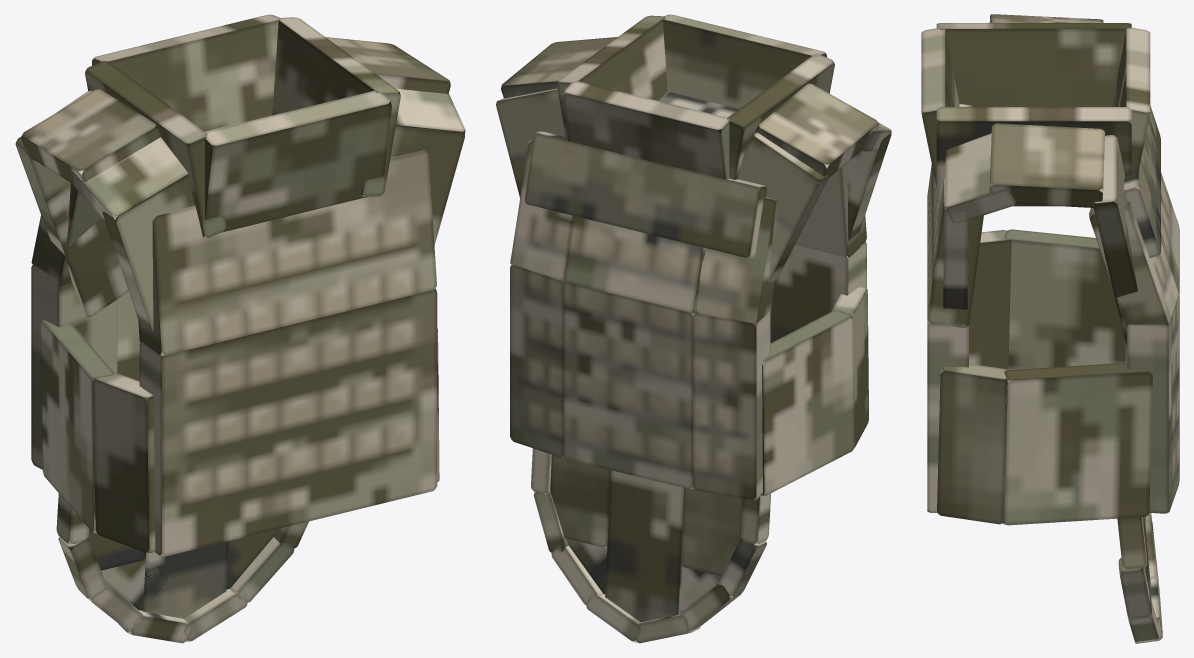
File: ukrainian_basic.obj
3 renders of one model, left to right at view 1: azimuth 30°, elevation 25°; view 2: azimuth 150°, elevation 25°; view 3: azimuth 270°, elevation 25°, orthographic. The views are drawn at different scales.
Parts seen in each view (by area): view 1: cube; view 2: cube; view 3: cube.
Boxes of the visible parts, box(x1,y1,x2,y2) form: cube: box(15, 14, 465, 643); cube: box(496, 14, 891, 643); cube: box(921, 14, 1179, 643).
Bounding box in the file's own units: 0.7271 × 1.13 × 0.4634.
